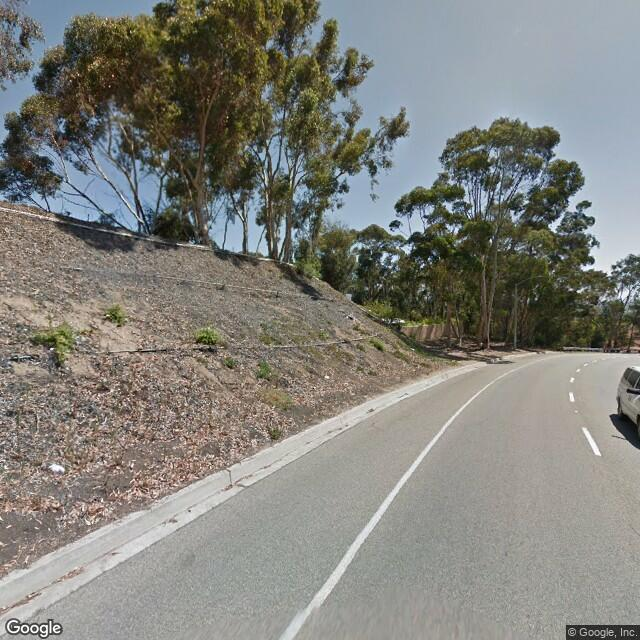litter: (45, 462, 68, 473), (324, 373, 334, 380)
